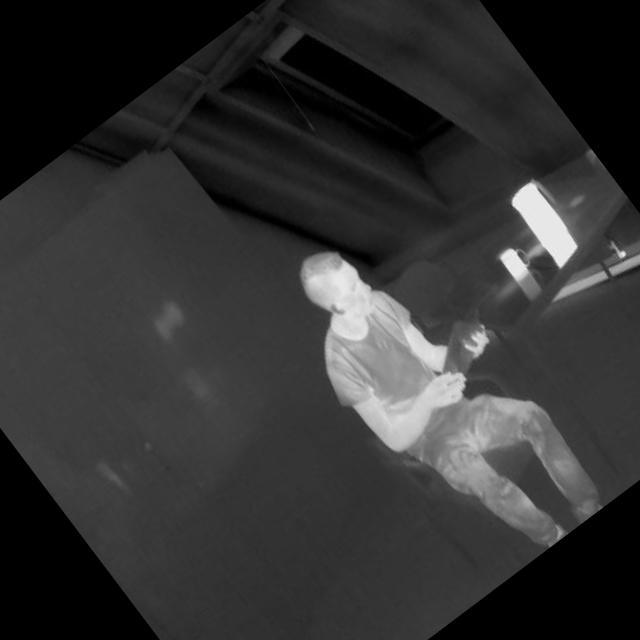person: (254, 185, 622, 595)
